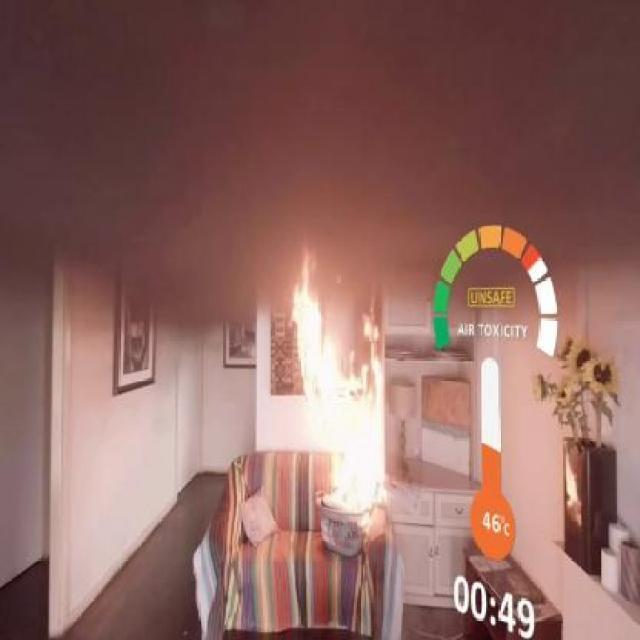fire: (278, 236, 404, 549)
smoke: (115, 22, 451, 250)
